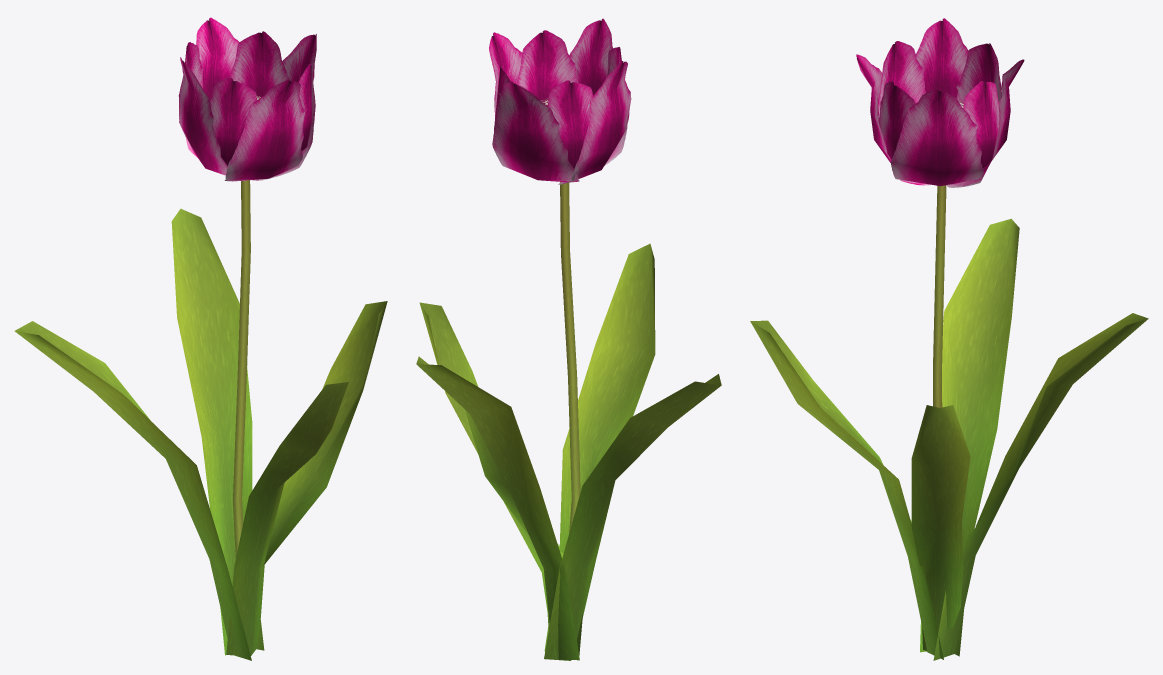
Rendered from m_flower24.fbx.
3 renders of one model, left to right at view 1: azimuth 30°, elevation 25°; view 2: azimuth 150°, elevation 25°; view 3: azimuth 270°, elevation 25°, orthographic.
Visible parts, largest first — view 1: mesh_flower24; view 2: mesh_flower24; view 3: mesh_flower24.
Part boxes in pixels (left/top/right/bottom): mesh_flower24: left=14, top=17, right=387, bottom=660; mesh_flower24: left=416, top=18, right=721, bottom=660; mesh_flower24: left=750, top=18, right=1148, bottom=660.
Bounding box in the file's own units: 0.2418 × 0.4208 × 0.2491.
Materials: 1 (1 with a texture image).
